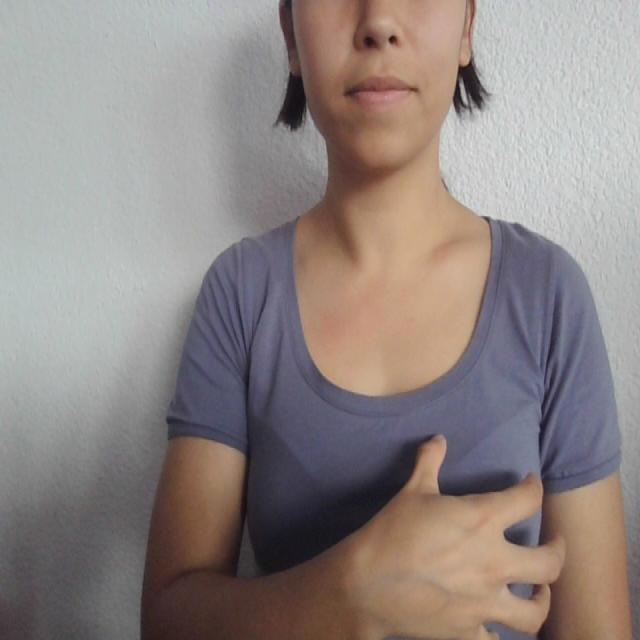Anne: (241, 420, 579, 640)
